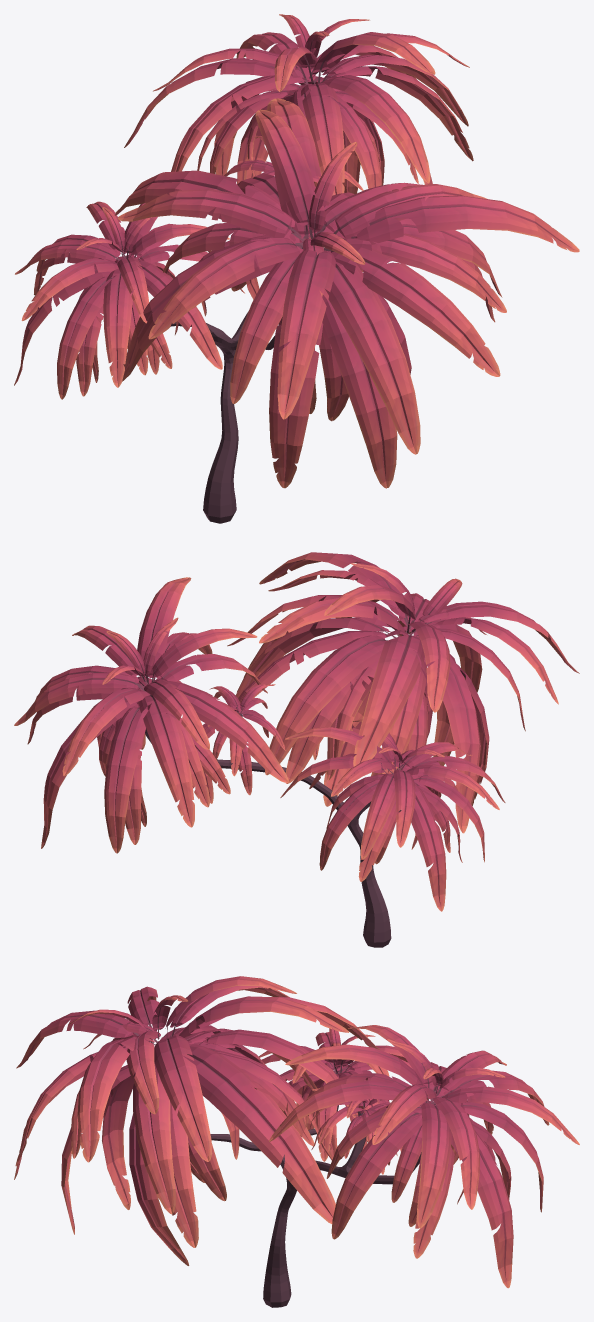
File: palmC.glb
3 views of the same model, one above another, from view 1: azimuth 30°, elevation 25°; view 2: azimuth 150°, elevation 25°; view 3: azimuth 270°, elevation 25° (orthographic). The views are drawn at different scales.
Visible parts, largest first — view 1: leaf2.033, leaf1.025, leaf2.005, tree, leaf2.038; view 2: leaf2.033, leaf1.025, leaf2.005, tree, leaf2.038; view 3: leaf2.033, leaf1.025, tree, leaf2.005, leaf2.038.
Part boxes in pixels (x1,y1,x2,y2): leaf2.033: (115, 98, 579, 488); leaf1.025: (124, 14, 473, 195); leaf2.005: (14, 201, 244, 399); tree: (170, 311, 275, 523); leaf2.038: (224, 136, 363, 238); leaf2.033: (224, 552, 579, 833); leaf1.025: (14, 577, 288, 853); leaf2.005: (280, 719, 505, 911); tree: (145, 714, 401, 947); leaf2.038: (202, 684, 285, 795); leaf2.033: (14, 976, 379, 1265); leaf1.025: (269, 1025, 579, 1288); tree: (210, 1072, 421, 1307); leaf2.005: (258, 1028, 412, 1161); leaf2.038: (311, 1087, 402, 1174).
Bounding box in the file's own units: 14.81 × 11.29 × 16.75.
2 materials, 1 textured.
